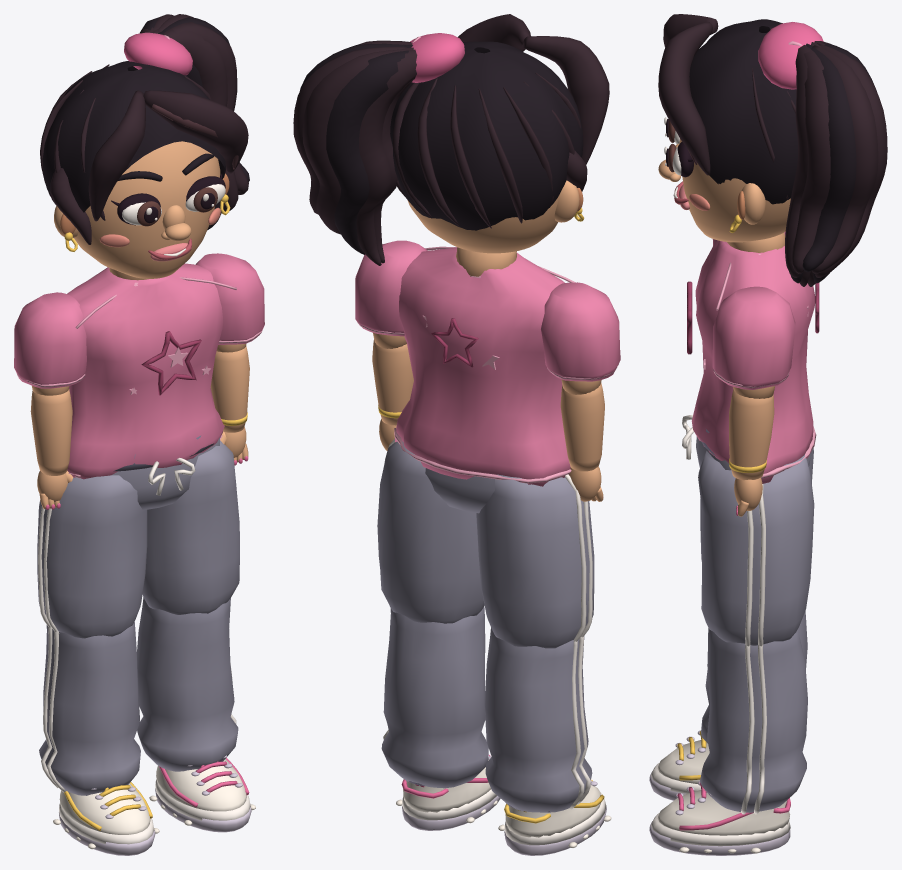
The model's file is nari.glb.
3 views of the same model, side by side, from view 1: azimuth 30°, elevation 25°; view 2: azimuth 150°, elevation 25°; view 3: azimuth 270°, elevation 25° (orthographic). The views are drawn at different scales.
Parts seen in each view (by area): view 1: chest-Outfit, R-hip-Trousers, L-knee-Trousers, R-knee-Trousers, L-hip-Trousers, head-Hair, head-Skin, head-HairRibbon, R-shoulder-Outfit, L-hair-HairRibbon, L-shoulder-Outfit, R-elbow-Skin (+24 smaller); view 2: chest-Outfit, head-Hair, R-hip-Trousers, L-knee-Trousers, R-knee-Trousers, L-hip-Trousers, L-hair-HairRibbon, head-HairRibbon, L-hair-Hair, R-shoulder-Outfit, head-Skin, L-shoulder-Outfit (+16 smaller); view 3: L-hip-Trousers, L-knee-Trousers, L-hair-HairRibbon, head-Hair, chest-Outfit, L-shoulder-Outfit, head-HairRibbon, L-hair-Hair, head-Skin, L-foot-Shoe, L-elbow-Skin, head-Pink (+14 smaller).
Part boxes in pixels (x1=…): chest-Outfit: x1=67, y1=263, x2=224, y2=479; R-hip-Trousers: x1=37, y1=475, x2=147, y2=638; L-knee-Trousers: x1=137, y1=597, x2=238, y2=771; R-knee-Trousers: x1=39, y1=622, x2=140, y2=795; L-hip-Trousers: x1=142, y1=440, x2=239, y2=614; head-Hair: x1=42, y1=61, x2=225, y2=212; head-Skin: x1=54, y1=141, x2=220, y2=278; head-HairRibbon: x1=40, y1=64, x2=248, y2=221; R-shoulder-Outfit: x1=14, y1=292, x2=86, y2=388; L-hair-HairRibbon: x1=140, y1=14, x2=248, y2=211; L-shoulder-Outfit: x1=195, y1=253, x2=264, y2=344; R-elbow-Skin: x1=30, y1=389, x2=72, y2=475; chest-Outfit: x1=395, y1=247, x2=570, y2=486; head-Hair: x1=390, y1=41, x2=583, y2=230; R-hip-Trousers: x1=476, y1=474, x2=594, y2=648; L-knee-Trousers: x1=381, y1=606, x2=488, y2=788; R-knee-Trousers: x1=484, y1=627, x2=592, y2=812; L-hip-Trousers: x1=377, y1=441, x2=484, y2=623; L-hair-HairRibbon: x1=293, y1=40, x2=417, y2=265; head-HairRibbon: x1=393, y1=14, x2=609, y2=228; L-hair-Hair: x1=299, y1=43, x2=412, y2=254; R-shoulder-Outfit: x1=541, y1=282, x2=620, y2=381; head-Skin: x1=407, y1=180, x2=579, y2=253; L-shoulder-Outfit: x1=355, y1=240, x2=427, y2=336; L-hip-Trousers: x1=698, y1=451, x2=814, y2=645; L-knee-Trousers: x1=700, y1=628, x2=807, y2=812; L-hair-HairRibbon: x1=785, y1=41, x2=887, y2=286; head-Hair: x1=689, y1=19, x2=797, y2=204; chest-Outfit: x1=691, y1=232, x2=815, y2=483; L-shoulder-Outfit: x1=712, y1=286, x2=795, y2=389; head-HairRibbon: x1=658, y1=14, x2=795, y2=199; L-hair-Hair: x1=790, y1=42, x2=876, y2=283; head-Skin: x1=658, y1=139, x2=790, y2=242; L-foot-Shoe: x1=657, y1=790, x2=790, y2=853; L-elbow-Skin: x1=729, y1=389, x2=774, y2=480; head-Pink: x1=758, y1=22, x2=823, y2=89.
Bounding box in the file's own units: 0.5928 × 1.67 × 0.4499.
